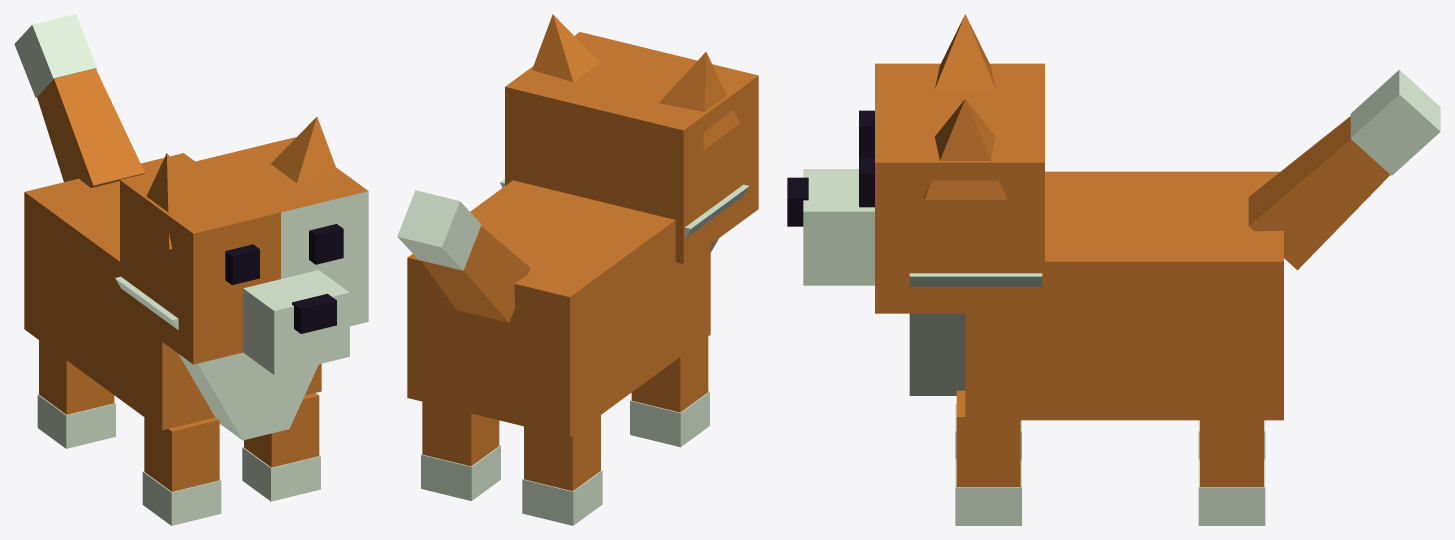
File: dog.glb
3 renders of one model, left to right at view 1: azimuth 30°, elevation 25°; view 2: azimuth 150°, elevation 25°; view 3: azimuth 270°, elevation 25°, orthographic. The views are drawn at different scales.
Parts seen in each view (by area): view 1: Dog; view 2: Dog; view 3: Dog.
Boxes of the visible parts, x1=… form: Dog: x1=14, y1=14, x2=368, y2=525; Dog: x1=397, y1=14, x2=758, y2=525; Dog: x1=787, y1=14, x2=1440, y2=525.
Size of the model in its own units: 0.47 by 0.888 by 1.23.
